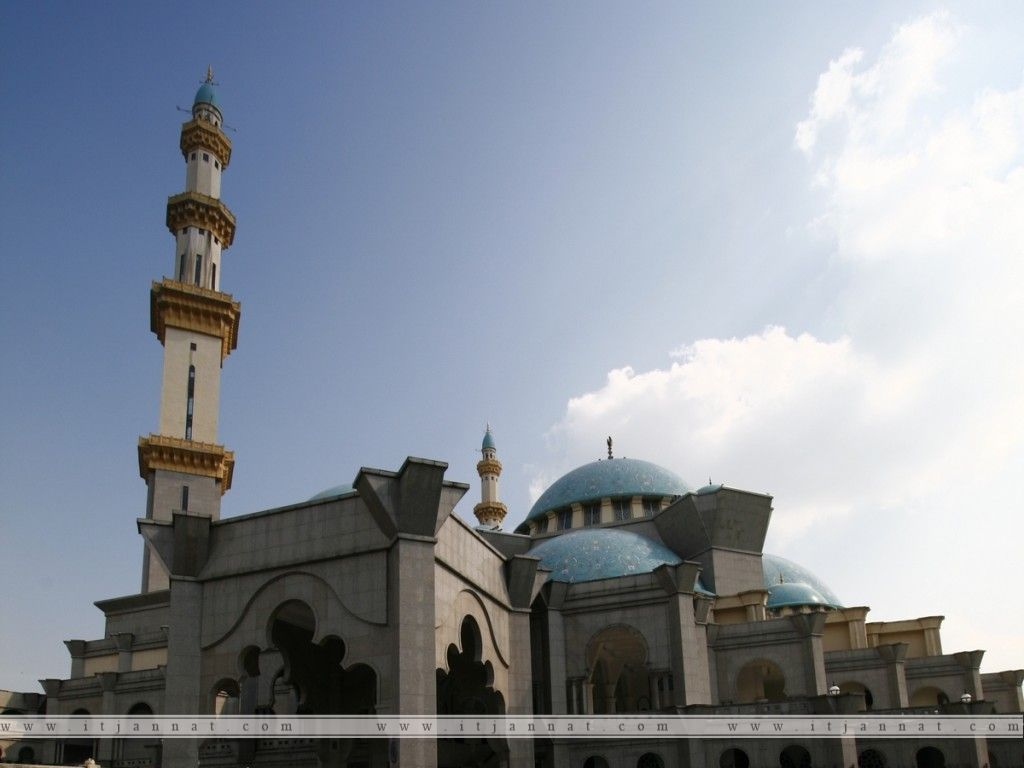Mosque: (134, 76, 845, 701)
